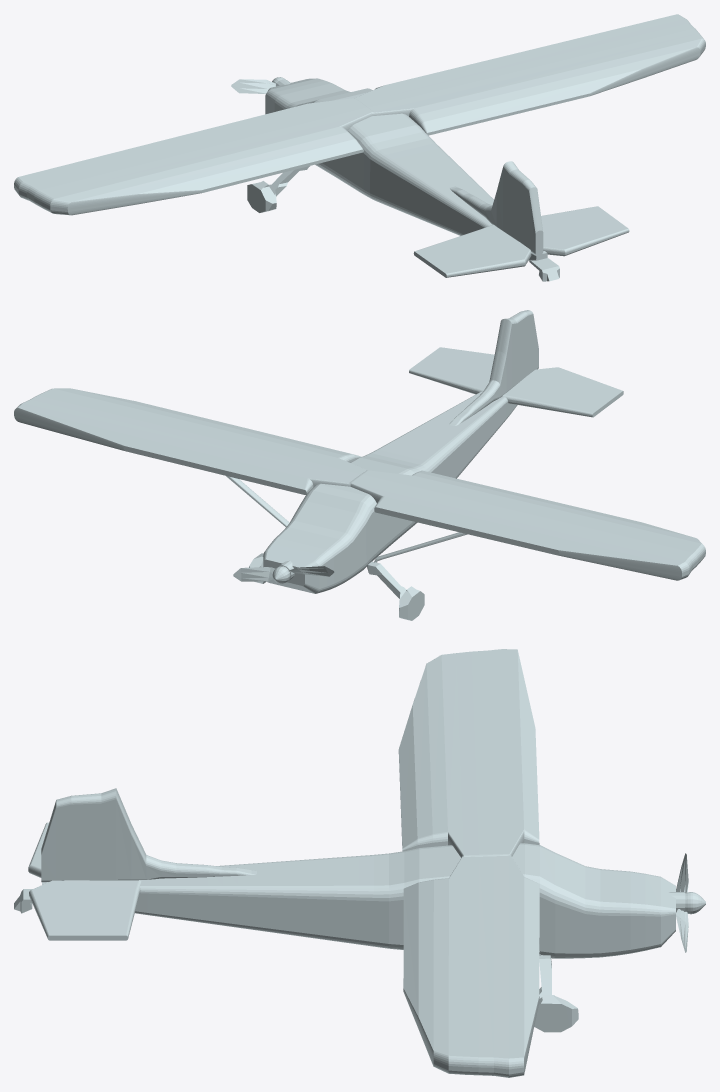
3 renders of one model, top to bottom at view 1: azimuth 30°, elevation 25°; view 2: azimuth 150°, elevation 25°; view 3: azimuth 270°, elevation 25°, orthographic. The views are drawn at different scales.
Parts seen in each view (by area): view 1: Aircraft visual hull, Rotor 1790644676237-agel7zvb1zd; view 2: Aircraft visual hull, Rotor 1790644676237-agel7zvb1zd; view 3: Aircraft visual hull, Rotor 1790644676237-agel7zvb1zd.
Boxes of the visible parts, x1,y1,x2,y2 form: Aircraft visual hull: [14, 14, 705, 281]; Rotor 1790644676237-agel7zvb1zd: [231, 77, 290, 93]; Aircraft visual hull: [14, 310, 705, 620]; Rotor 1790644676237-agel7zvb1zd: [233, 560, 334, 583]; Aircraft visual hull: [14, 649, 675, 1077]; Rotor 1790644676237-agel7zvb1zd: [669, 853, 705, 952].
Bounding box in the file's own units: 10.91 × 2.42 × 7.7.
